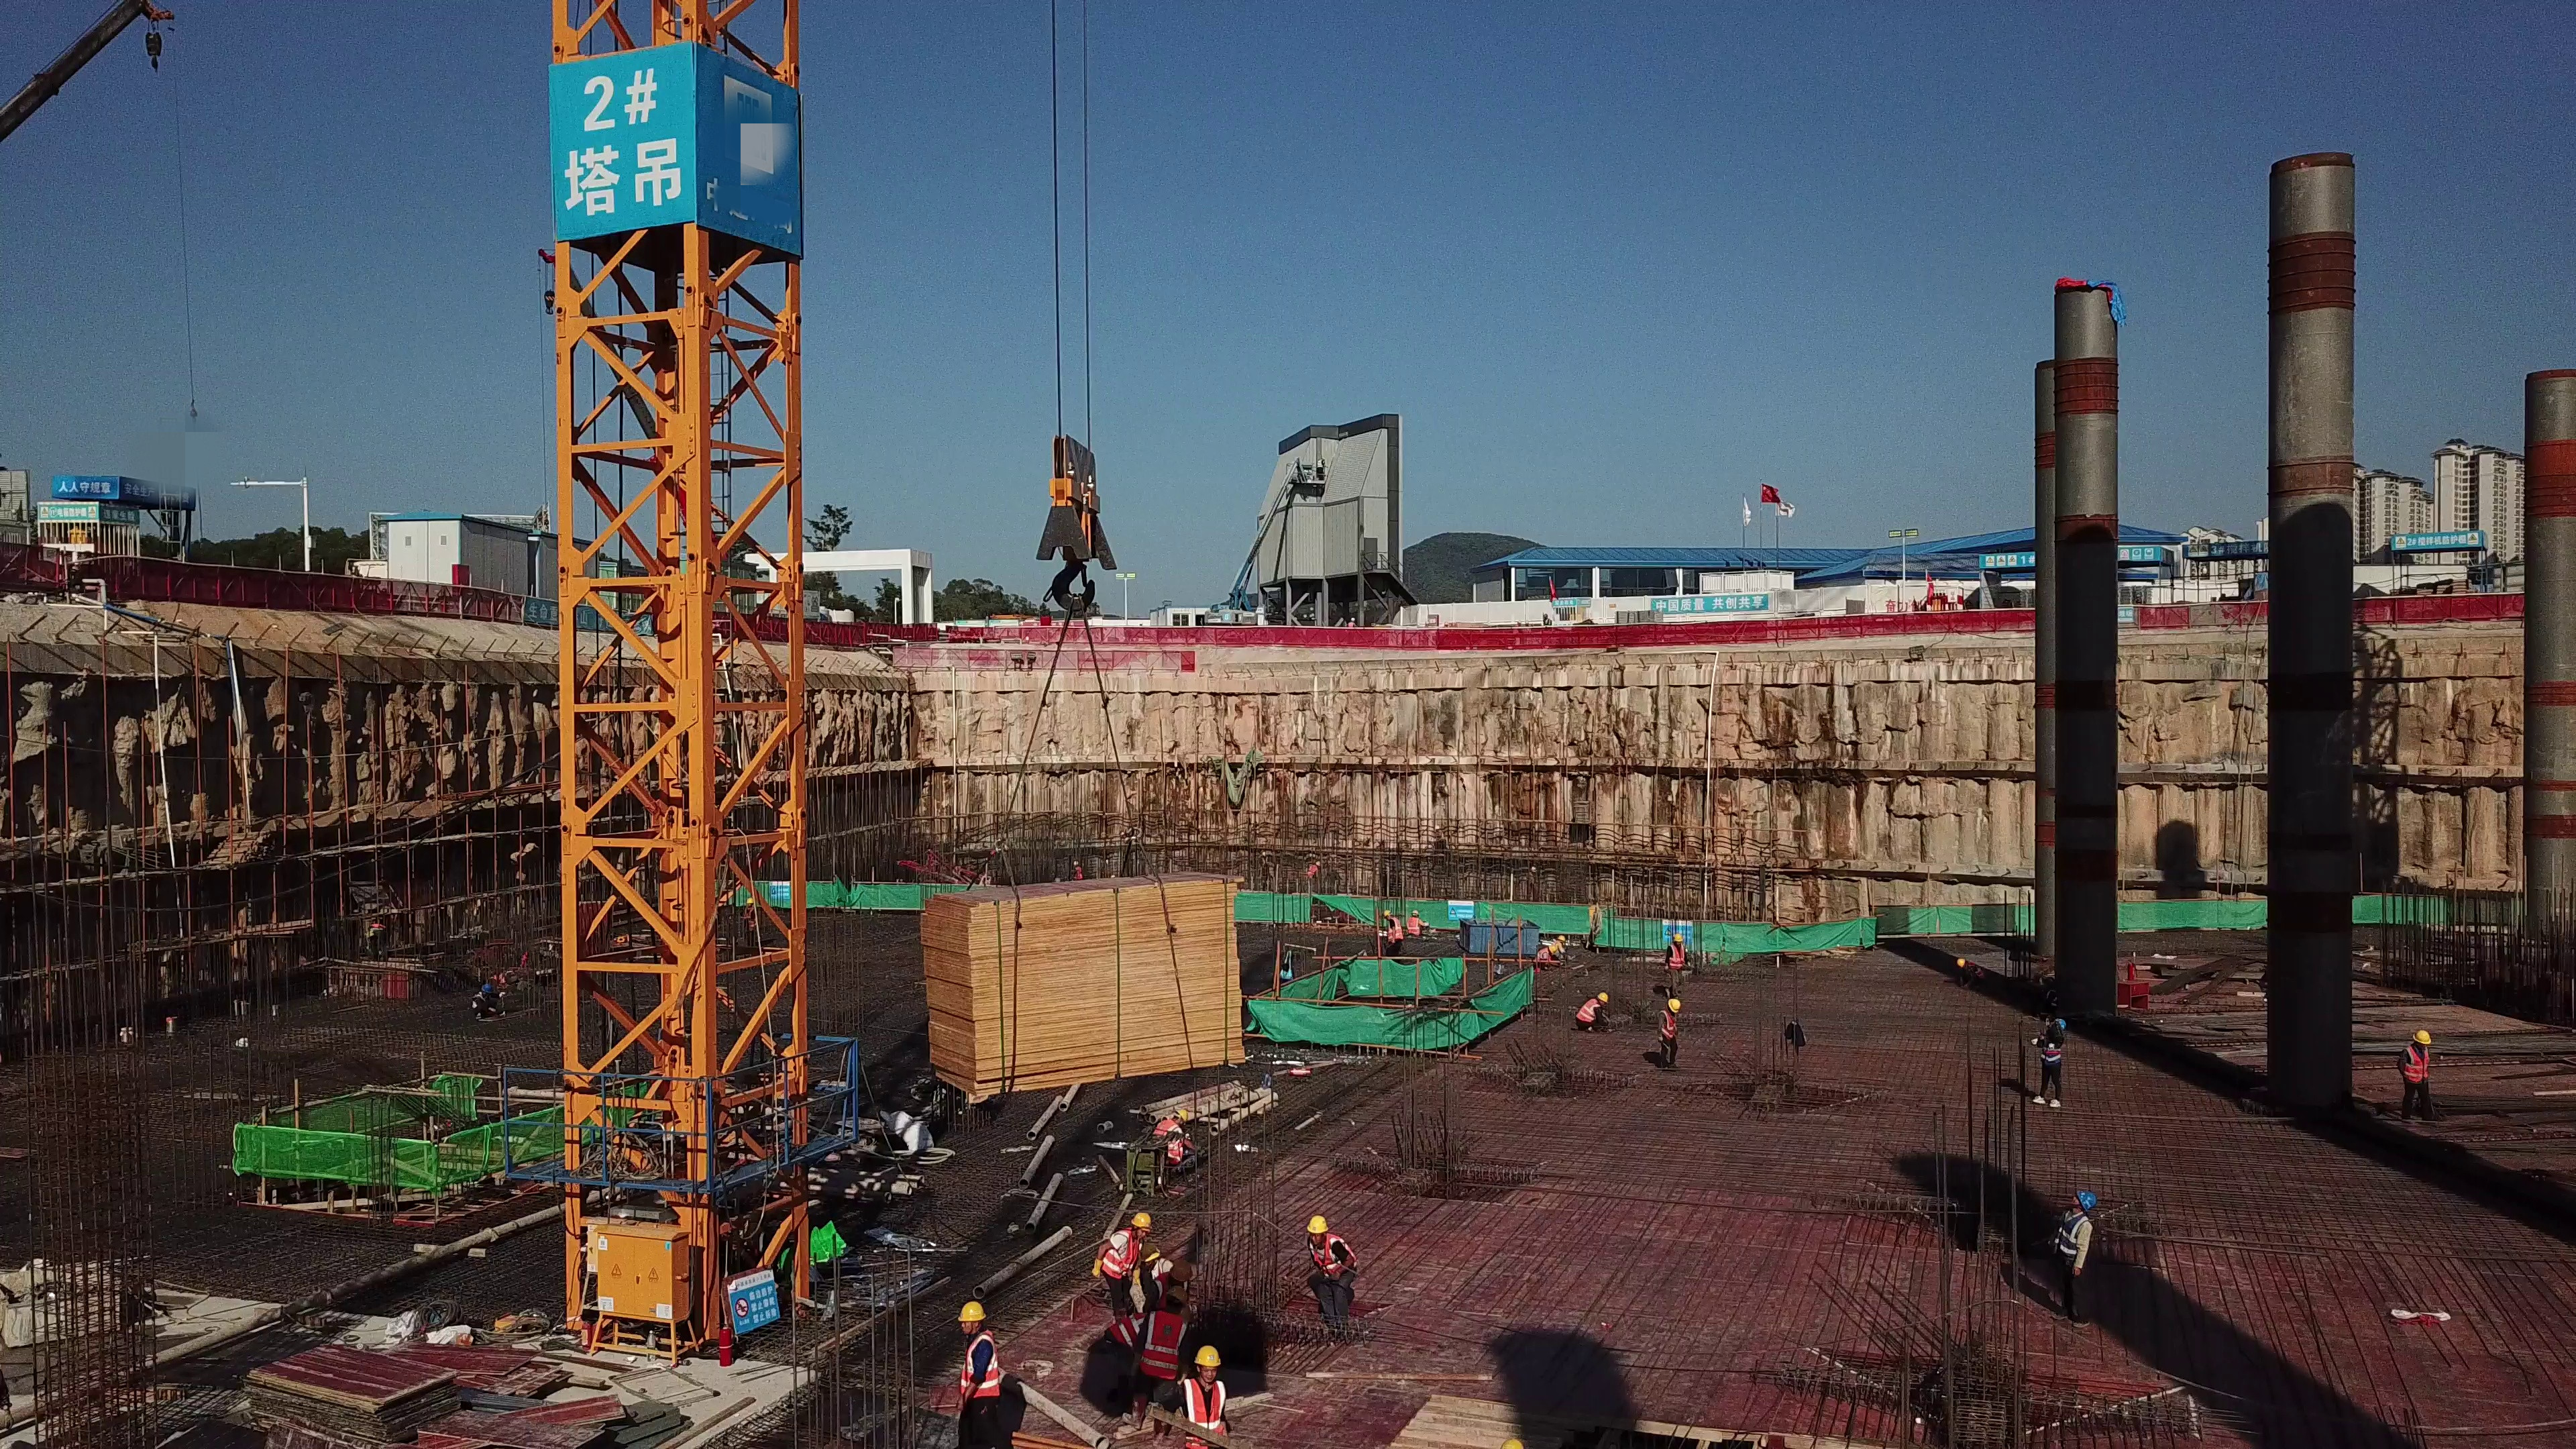board: (912, 867, 1263, 1090), (272, 1311, 630, 1449)
brick: (1609, 608, 1667, 627)
ebox: (590, 1206, 692, 1342)
fence: (241, 572, 509, 624)
helmet: (955, 1299, 989, 1319), (1161, 1283, 1189, 1303), (1125, 1212, 1150, 1233), (2077, 1189, 2096, 1215), (1189, 1349, 1222, 1366), (1171, 1260, 1194, 1280), (1306, 1216, 1326, 1236), (2413, 1028, 2431, 1044), (480, 979, 495, 994), (1173, 1110, 1193, 1121), (1668, 997, 1680, 1013), (1598, 989, 1608, 1002), (2055, 1017, 2065, 1030), (1550, 943, 1557, 957), (1957, 959, 1966, 968), (1674, 934, 1684, 941), (1557, 935, 1568, 942)
hook: (1038, 430, 1125, 617), (140, 32, 171, 76), (543, 287, 563, 325)
hopper: (1464, 912, 1533, 967)
person: (1299, 1210, 1362, 1347), (2045, 1186, 2101, 1331), (1126, 1285, 1189, 1408), (949, 1299, 1002, 1432), (1089, 1210, 1146, 1316), (1177, 1338, 1229, 1442), (2395, 1028, 2441, 1126), (2026, 1014, 2069, 1118), (1648, 996, 1694, 1077), (1150, 1105, 1206, 1170), (1140, 1239, 1197, 1293), (1570, 990, 1623, 1040), (1660, 933, 1697, 996), (466, 978, 506, 1023), (1379, 909, 1403, 959), (1954, 956, 1988, 991), (1405, 904, 1436, 942), (1536, 934, 1572, 963), (1305, 856, 1324, 879), (1538, 612, 1556, 630)
slogan: (539, 62, 702, 231), (523, 604, 660, 637), (1980, 551, 2171, 568), (1651, 595, 1768, 612), (128, 483, 194, 506), (55, 476, 118, 499), (39, 504, 99, 522), (103, 508, 138, 527)
vest: (1185, 1379, 1235, 1446), (1185, 1375, 1227, 1439), (959, 1338, 1003, 1396), (1145, 1317, 1181, 1375), (2055, 1212, 2088, 1265), (1102, 1233, 1136, 1277), (1314, 1243, 1355, 1280), (1111, 1314, 1141, 1346), (2404, 1047, 2429, 1082), (1657, 1011, 1679, 1038), (1575, 1002, 1599, 1025), (1155, 1120, 1177, 1147), (2044, 1036, 2060, 1067), (1669, 944, 1684, 969), (1966, 961, 1982, 979), (1536, 949, 1549, 963)
